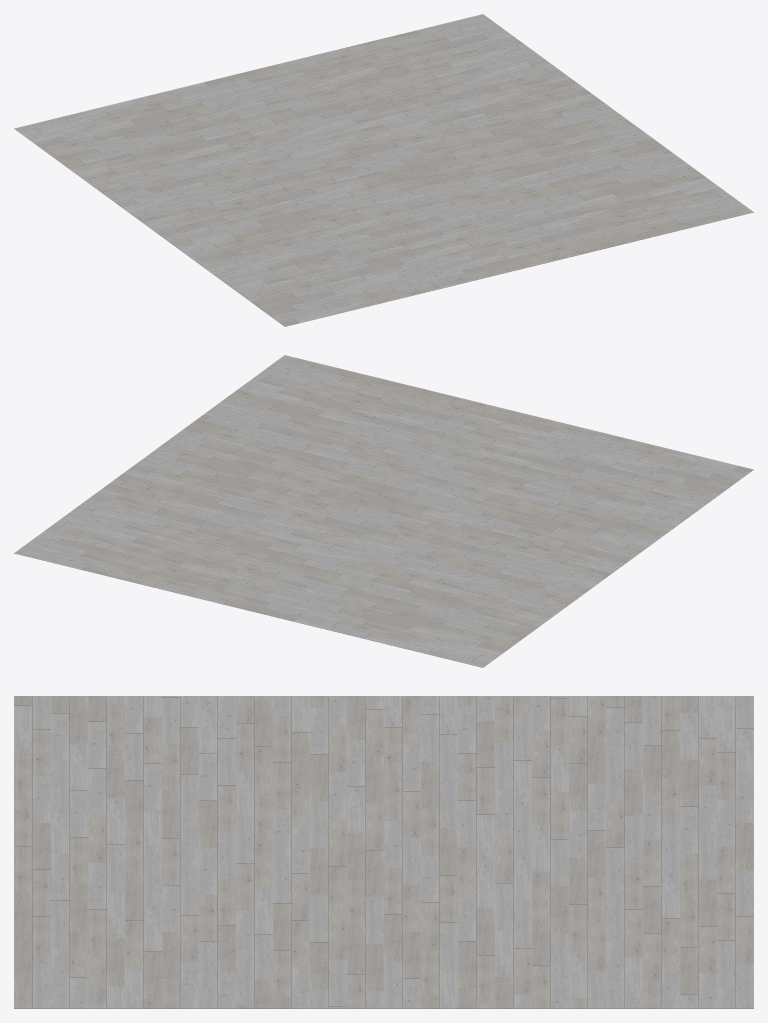
Rendered from leo-dark-20x120.glb.
The picture shows the model from 3 angles, top to bottom: view 1: azimuth 30°, elevation 25°; view 2: azimuth 150°, elevation 25°; view 3: azimuth 270°, elevation 25°; orthographic projection. The views are drawn at different scales.
Parts seen in each view (by area): view 1: Leo Dark; view 2: Leo Dark; view 3: Leo Dark.
Boxes of the visible parts, x1,y1,x2,y2 form: Leo Dark: (14,14,753,326); Leo Dark: (14,355,753,667); Leo Dark: (14,696,753,1008).
Bounding box in the file's own units: 8 × 0.003 × 8.
Materials: 2 (1 with a texture image).
